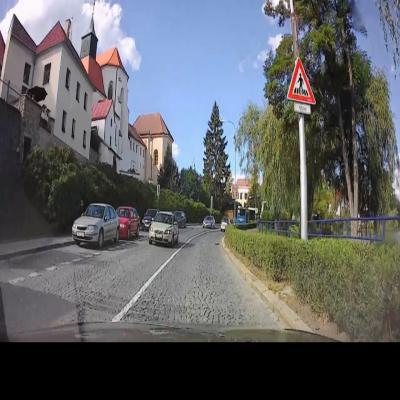clear-road: (121, 226, 282, 330), (37, 234, 178, 322)
